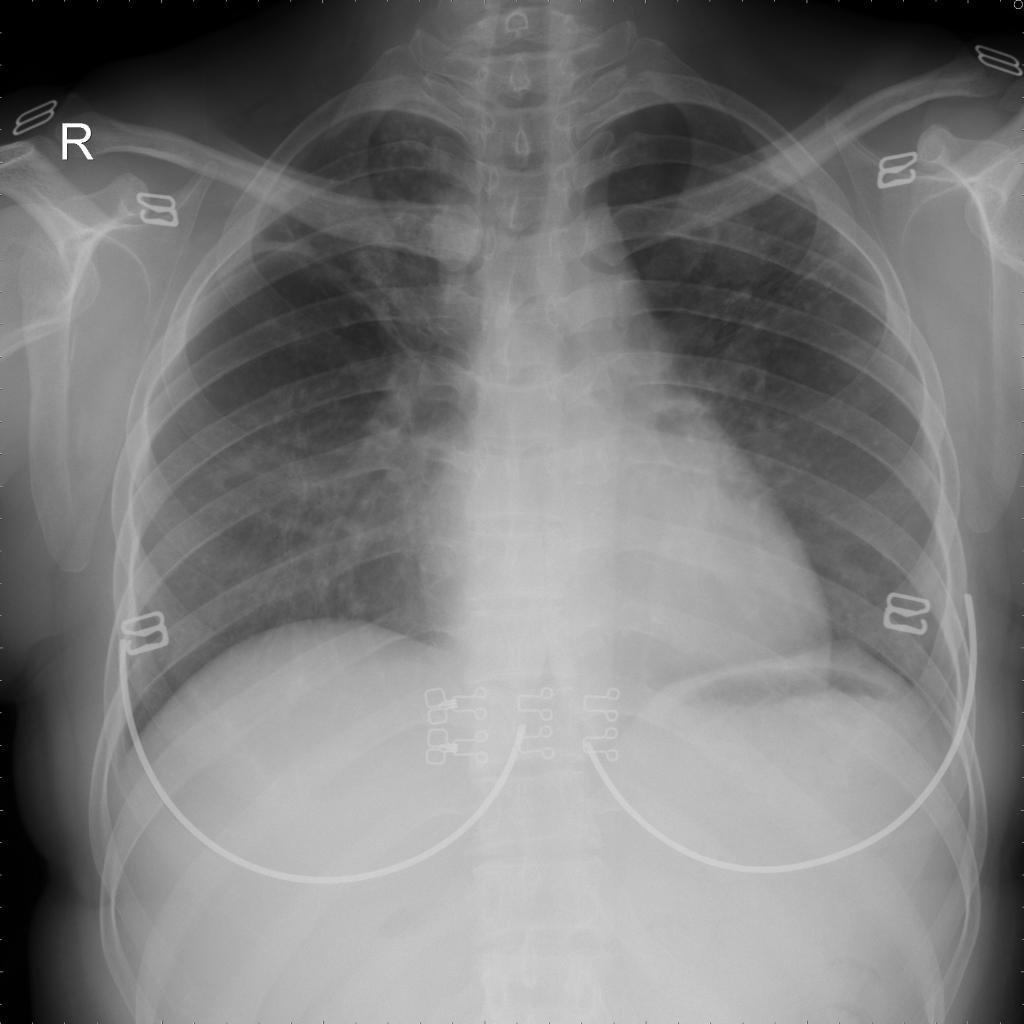Nodule: (714, 224, 769, 285), (651, 254, 681, 279), (820, 297, 844, 323), (787, 359, 808, 379)
